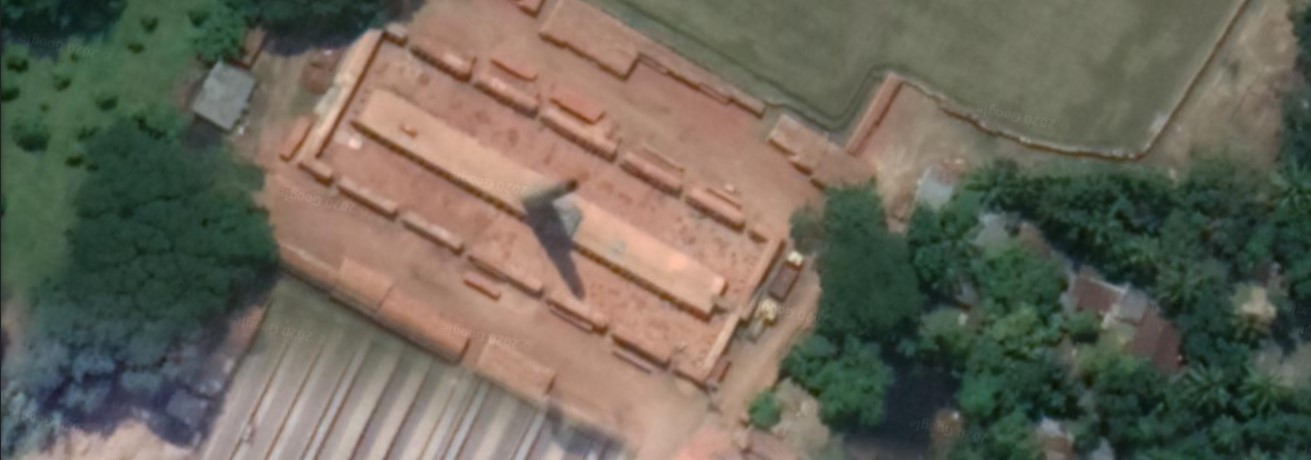kiln: (334, 55, 777, 356)
